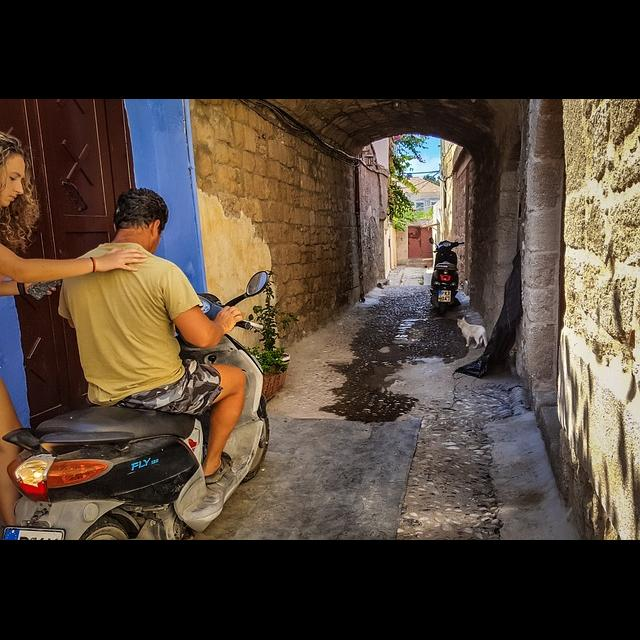animals: (452, 316, 488, 350)
